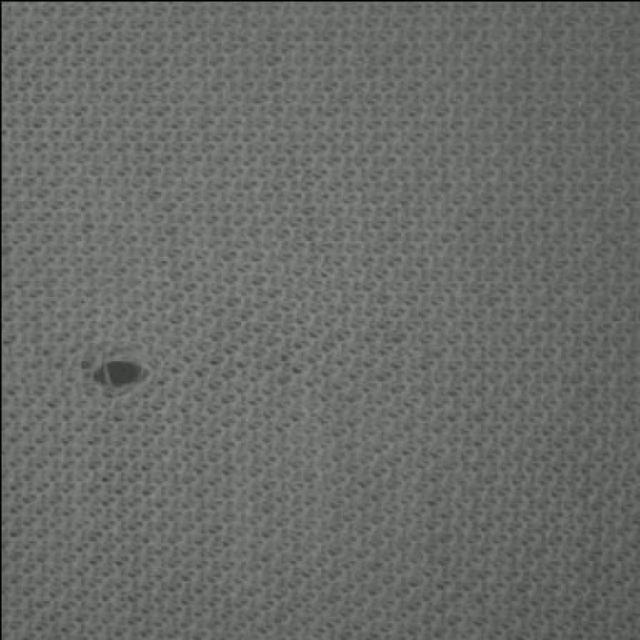Hole: (80, 346, 151, 399)
